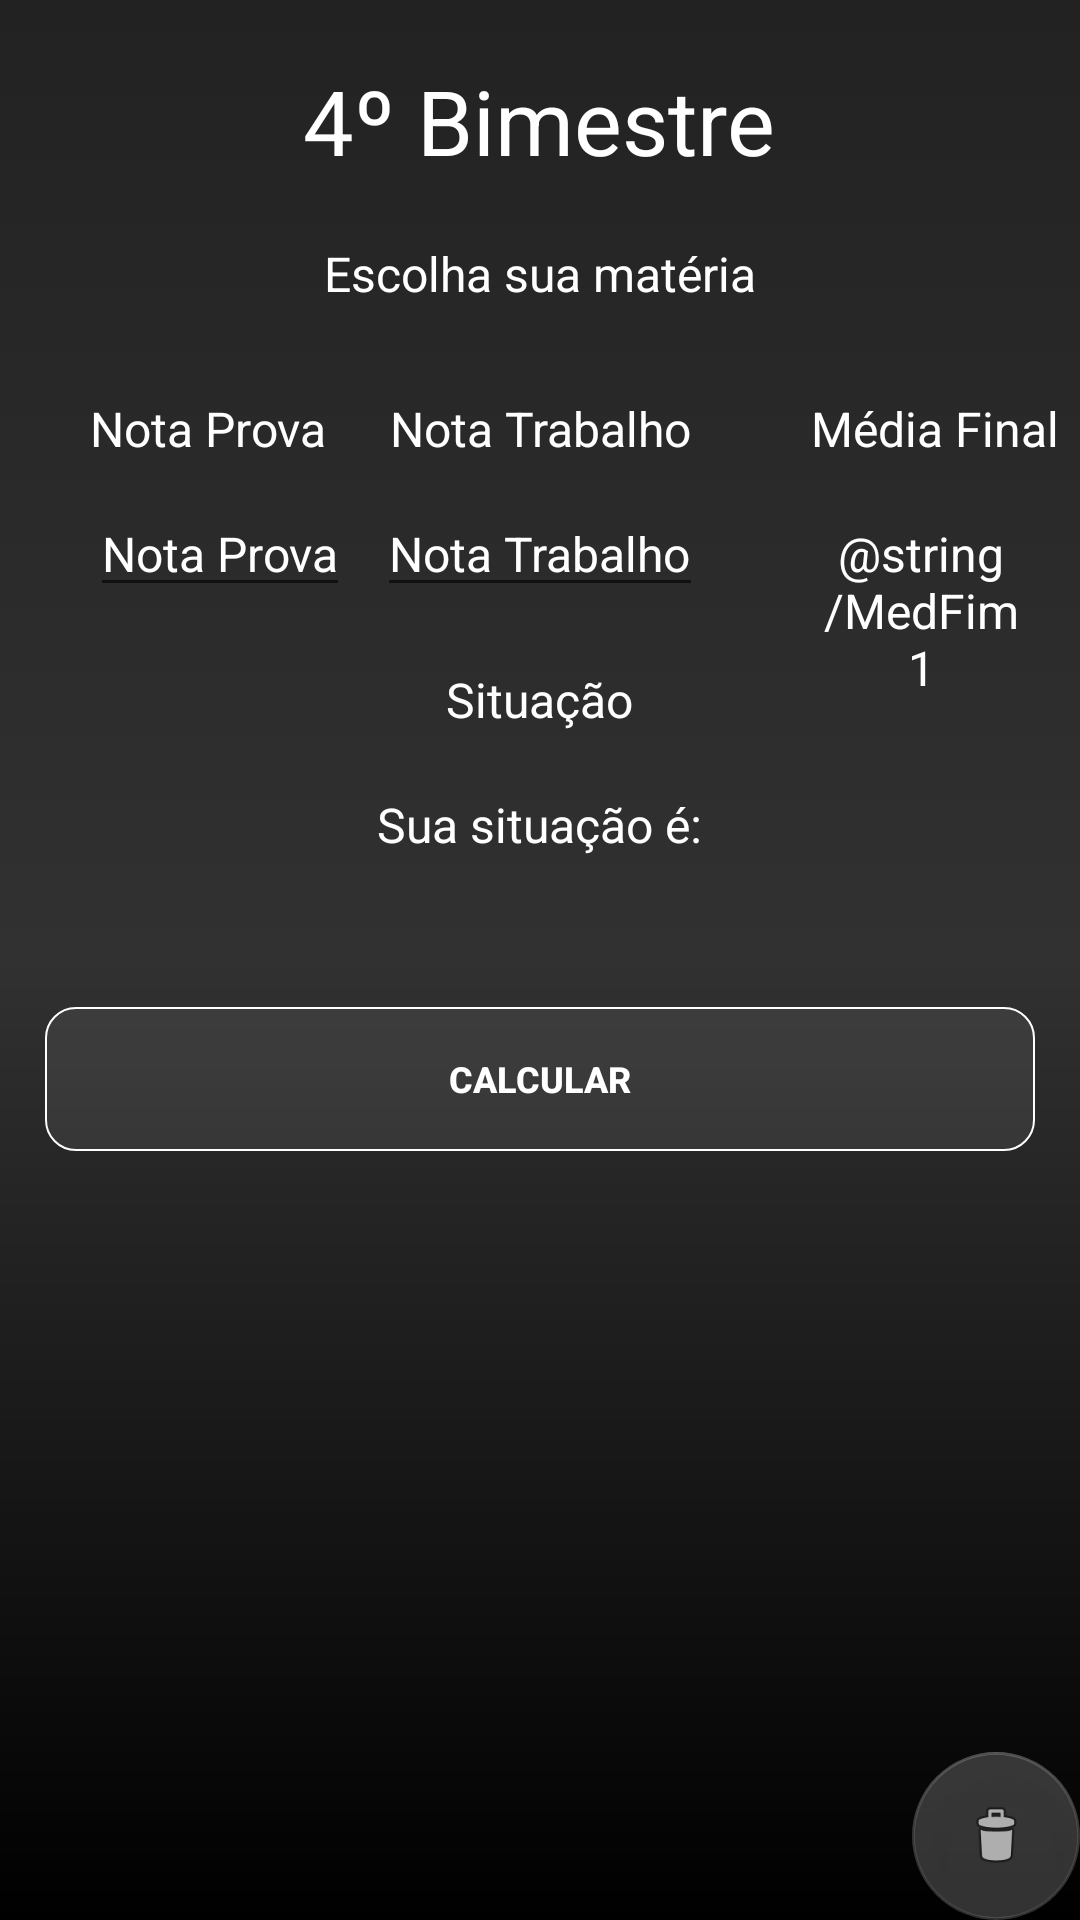

Locate icon controls on the screen. Image size 1080 × 1920, boxes as box=[x1, y1, x2, y2].
delete: box=[912, 1752, 1080, 1920]
